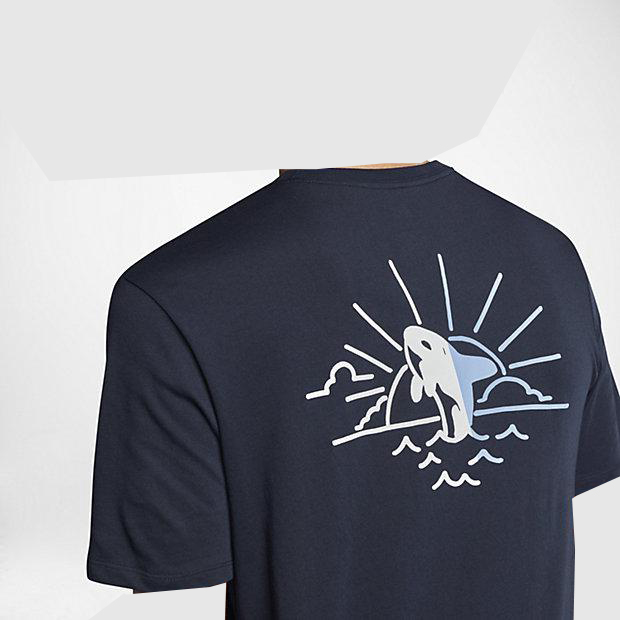teeshirt: (86, 161, 618, 620)
